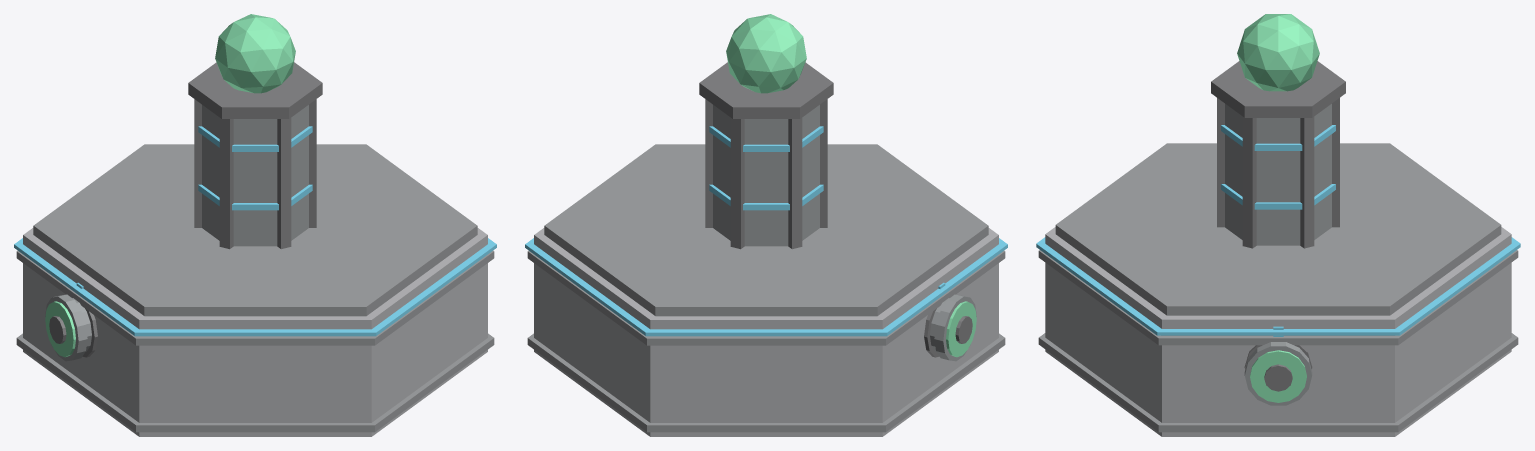
File: guild_beam_s1_100.glb
3 views of the same model, side by side, from view 1: azimuth 30°, elevation 25°; view 2: azimuth 150°, elevation 25°; view 3: azimuth 270°, elevation 25° (orthographic).
Parts seen in each view (by area): view 1: GB_BaseCap, GB_Base, GB_Tower, GB_Base_BandLow, GB_CoreCrystal, GB_Base_BandHigh, GB_Base_RuneBand, GB_TowerCap, GB_TowerStrut_3, GB_TowerStrut_4, GB_Flange_3_disc, GB_TowerStrut_2 (+4 smaller); view 2: GB_BaseCap, GB_Base, GB_Tower, GB_Base_BandLow, GB_CoreCrystal, GB_Base_BandHigh, GB_Base_RuneBand, GB_TowerCap, GB_TowerStrut_1, GB_TowerStrut_2, GB_Flange_3_disc, GB_TowerStrut_0 (+4 smaller); view 3: GB_BaseCap, GB_Base, GB_Tower, GB_Base_BandLow, GB_CoreCrystal, GB_Base_BandHigh, GB_TowerCap, GB_Base_RuneBand, GB_TowerStrut_0, GB_TowerStrut_5, GB_Flange_0_led, GB_Flange_0_disc (+5 smaller).
Part boxes in pixels (x1,y1,x2,y2): GB_BaseCap: (33,144,477,316); GB_Base: (23,228,487,436); GB_Tower: (202,105,308,246); GB_Base_BandLow: (16,333,494,432); GB_CoreCrystal: (215,14,295,93); GB_Base_BandHigh: (16,250,494,345); GB_Base_RuneBand: (14,238,496,336); GB_TowerCap: (188,62,322,118); GB_TowerStrut_3: (219,118,233,249); GB_TowerStrut_4: (277,118,291,249); GB_Flange_3_disc: (45,294,87,361); GB_TowerStrut_2: (194,99,201,227); GB_BaseCap: (544,144,988,316); GB_Base: (534,228,998,436); GB_Tower: (713,105,819,246); GB_Base_BandLow: (527,333,1005,432); GB_CoreCrystal: (726,14,806,93); GB_Base_BandHigh: (527,250,1005,345); GB_Base_RuneBand: (525,238,1007,336); GB_TowerCap: (699,62,833,118); GB_TowerStrut_1: (730,118,744,249); GB_TowerStrut_2: (788,118,802,249); GB_Flange_3_disc: (934,294,976,361); GB_TowerStrut_0: (705,99,712,227); GB_BaseCap: (1055,143,1501,315); GB_Base: (1045,227,1511,436); GB_Tower: (1225,104,1331,245); GB_Base_BandLow: (1038,333,1518,432); GB_CoreCrystal: (1237,14,1319,91); GB_Base_BandHigh: (1038,250,1518,345); GB_TowerCap: (1211,61,1345,117); GB_Base_RuneBand: (1036,237,1520,335); GB_TowerStrut_0: (1300,117,1314,248); GB_TowerStrut_5: (1242,117,1256,248); GB_Flange_0_led: (1250,350,1306,402); GB_Flange_0_disc: (1244,342,1312,405).
Size of the model in its own units: 1.78 by 1.43 by 1.87.
